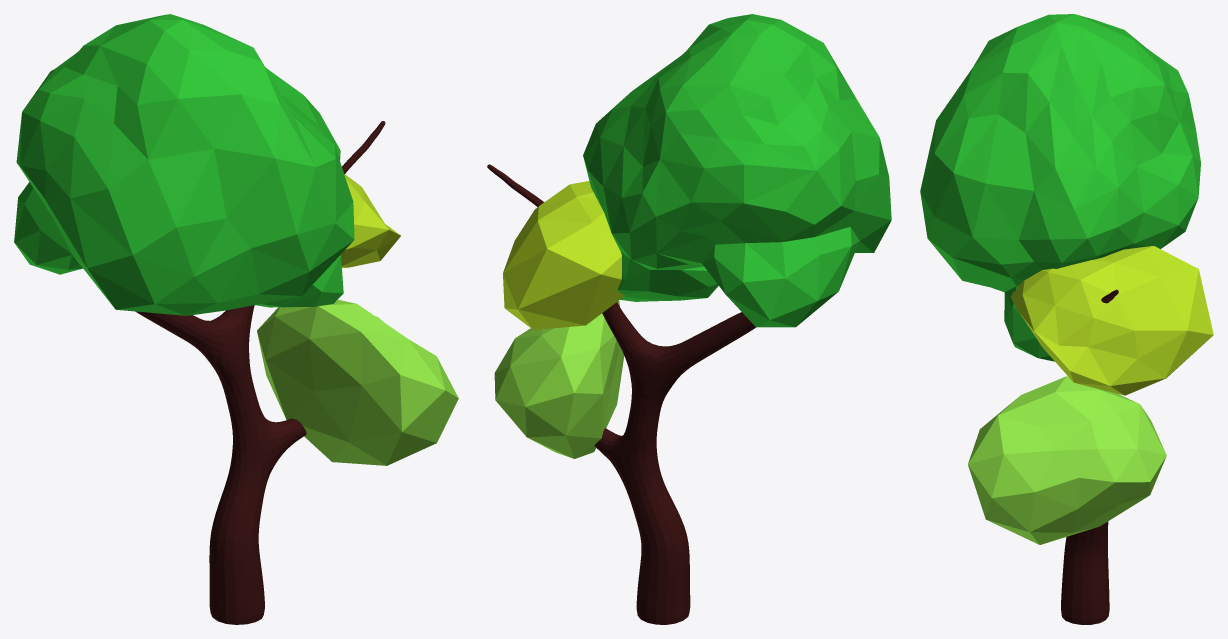
File: Tree.glb
3 views of the same model, side by side, from view 1: azimuth 30°, elevation 25°; view 2: azimuth 150°, elevation 25°; view 3: azimuth 270°, elevation 25° (orthographic). The views are drawn at different scales.
Visible parts, largest first — view 1: tree3_Icosphere.006, tree5_Cube.019, Cube.001, tree5_Cube.018; view 2: tree3_Icosphere.006, Cube.001, tree5_Cube.019, tree5_Cube.018; view 3: tree3_Icosphere.006, tree5_Cube.019, tree5_Cube.018, Cube.001.
Boxes of the visible parts, bbox=[...] form: tree3_Icosphere.006: bbox=[14, 14, 354, 315]; tree5_Cube.019: bbox=[257, 299, 458, 465]; Cube.001: bbox=[135, 121, 385, 624]; tree5_Cube.018: bbox=[341, 174, 400, 267]; tree3_Icosphere.006: bbox=[583, 14, 891, 327]; Cube.001: bbox=[487, 164, 755, 624]; tree5_Cube.019: bbox=[494, 301, 624, 458]; tree5_Cube.018: bbox=[503, 181, 625, 329]; tree3_Icosphere.006: bbox=[920, 14, 1200, 361]; tree5_Cube.019: bbox=[968, 376, 1166, 544]; tree5_Cube.018: bbox=[1010, 246, 1213, 395]; Cube.001: bbox=[1061, 289, 1118, 624].
Bounding box in the file's own units: 12.91 × 20.76 × 9.84.
